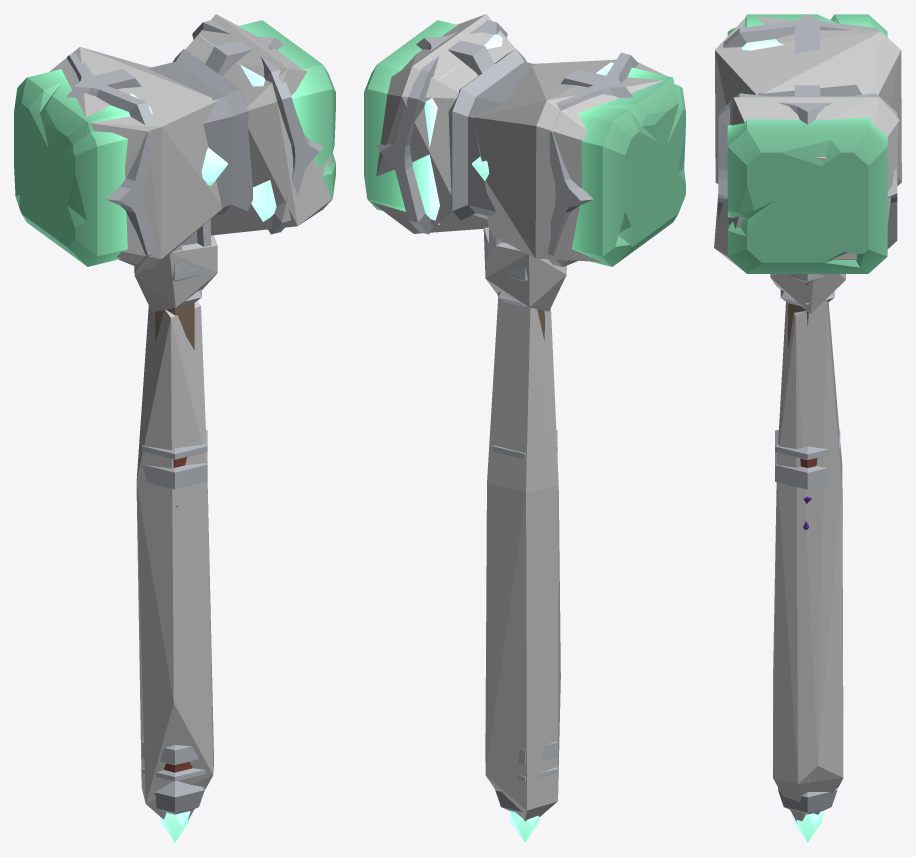
File: SM_Wep_Hammer_01.fbx
The picture shows the model from 3 angles, left to right: view 1: azimuth 30°, elevation 25°; view 2: azimuth 150°, elevation 25°; view 3: azimuth 270°, elevation 25°; orthographic projection.
Parts seen in each view (by area): view 1: SM_Wep_Hammer_01_ConvexHulls, SM_Wep_Hammer_01; view 2: SM_Wep_Hammer_01_ConvexHulls, SM_Wep_Hammer_01; view 3: SM_Wep_Hammer_01_ConvexHulls, SM_Wep_Hammer_01.
Part boxes in pixels (x1=…): SM_Wep_Hammer_01_ConvexHulls: x1=49, y1=14, x2=332, y2=820; SM_Wep_Hammer_01: x1=14, y1=20, x2=335, y2=842; SM_Wep_Hammer_01_ConvexHulls: x1=371, y1=14, x2=666, y2=821; SM_Wep_Hammer_01: x1=364, y1=20, x2=685, y2=842; SM_Wep_Hammer_01_ConvexHulls: x1=714, y1=16, x2=901, y2=822; SM_Wep_Hammer_01: x1=718, y1=14, x2=897, y2=842.
Size of the model in its own units: 48.01 by 29.95 by 138.
Materials: 2 (1 with a texture image).
